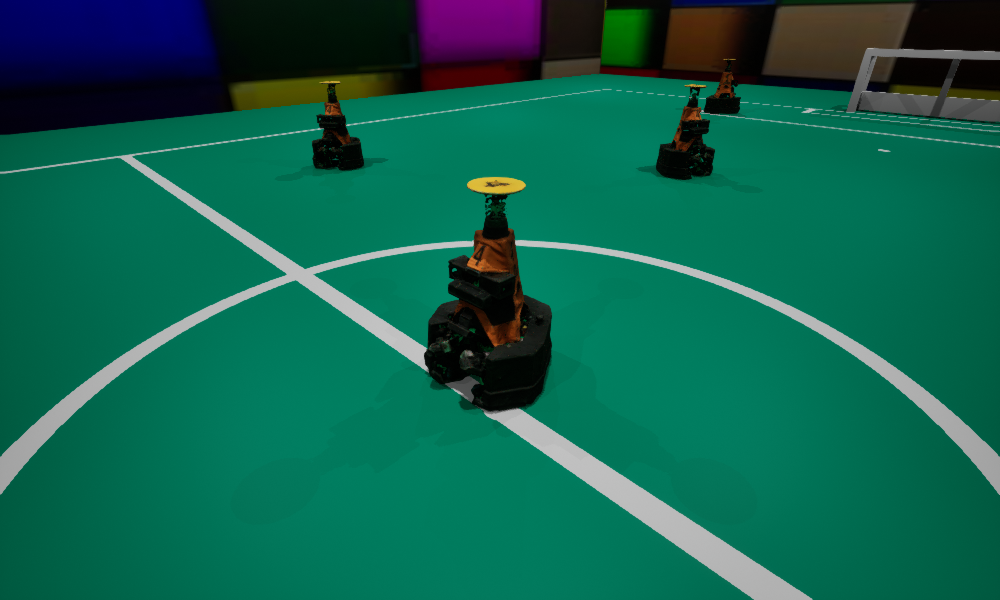0 orange robot TechUnited: (424, 177, 551, 410), (656, 84, 714, 179), (312, 81, 363, 169), (704, 59, 740, 113)
